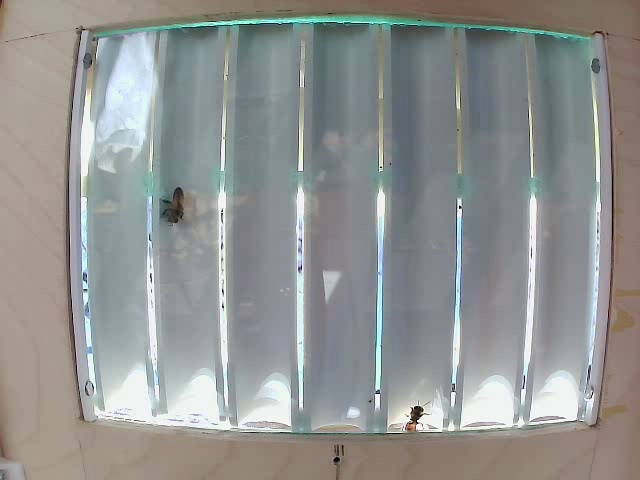bee: (161, 175, 207, 243)
